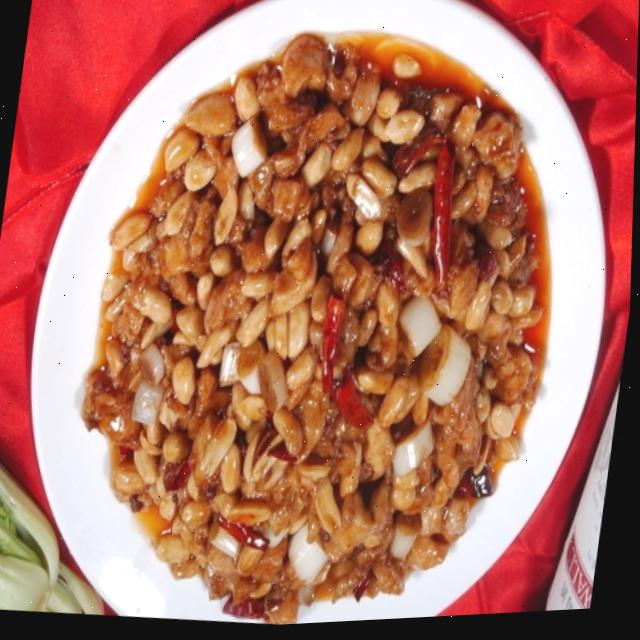鸡肉料理 含炸鸡: (24, 0, 618, 638)
